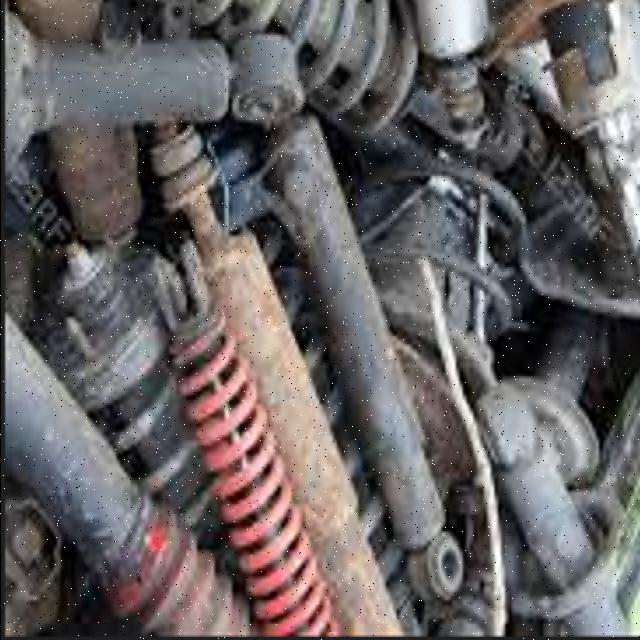shock absorber: (144, 238, 344, 635)
